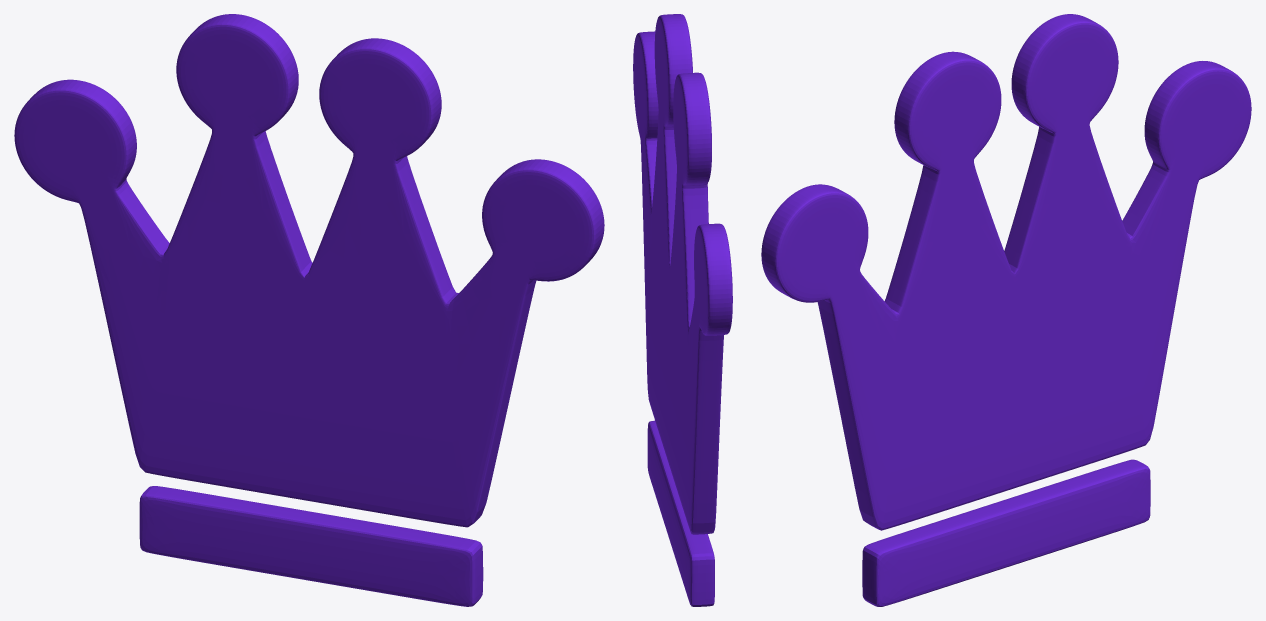
Rendered from King_Crown_Blend.glb.
The picture shows the model from 3 angles, left to right: view 1: azimuth 30°, elevation 25°; view 2: azimuth 150°, elevation 25°; view 3: azimuth 270°, elevation 25°; orthographic projection. The views are drawn at different scales.
Visible parts, largest first — view 1: King Crown STL; view 2: King Crown STL; view 3: King Crown STL.
Part boxes in pixels (left/top/right/bottom): King Crown STL: left=14, top=14, right=604, bottom=606; King Crown STL: left=633, top=14, right=732, bottom=606; King Crown STL: left=761, top=14, right=1251, bottom=606.
Bounding box in the file's own units: 48.64 × 72.64 × 61.69.
